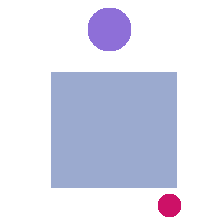circle: (88, 8, 130, 50), (158, 194, 180, 216)
rectangle: (51, 72, 176, 187)
